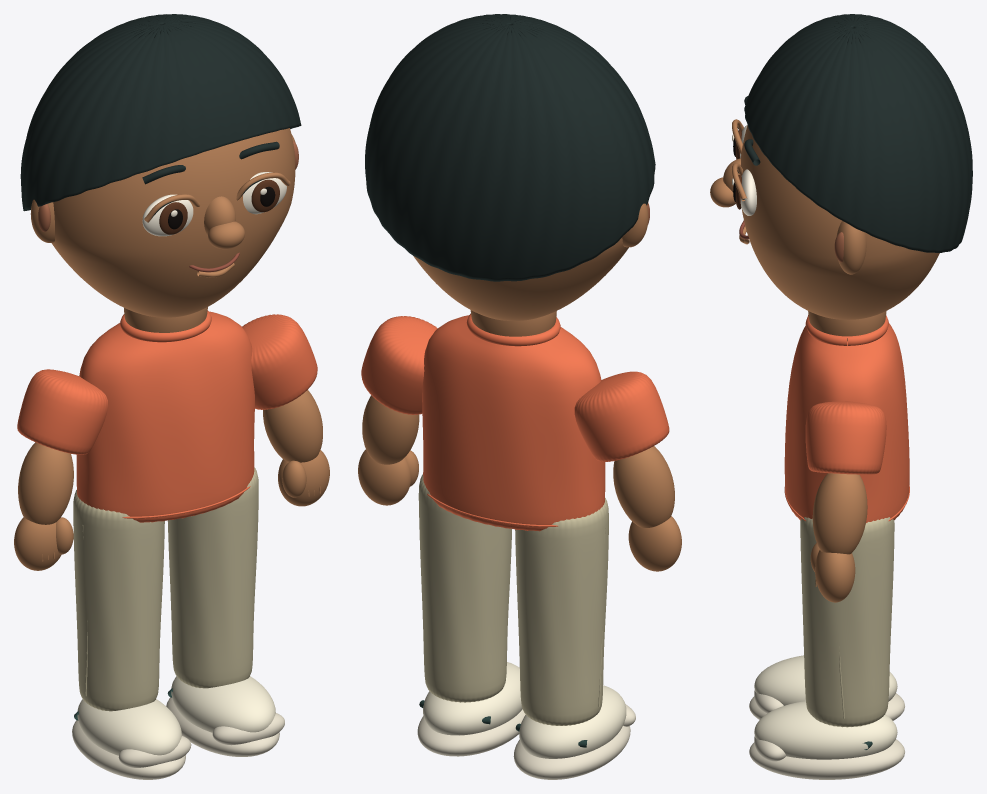
The model's file is male-short.glb.
The picture shows the model from 3 angles, left to right: view 1: azimuth 30°, elevation 25°; view 2: azimuth 150°, elevation 25°; view 3: azimuth 270°, elevation 25°; orthographic projection. The views are drawn at different scales.
Parts seen in each view (by area): view 1: Hair | shaped continuous hairstyle, Cotton tee | tailored body, Face | sculpted soft jaw, Trousers | tapered leg, Trousers | tapered leg.001, Tee | tailored short sleeve, Tee | tailored short sleeve.001, Sneaker | canvas upper, Sneaker | canvas upper.001, Arm | forearm, Arm | forearm.001, Sneaker | rubber sole (+12 smaller); view 2: Hair | shaped continuous hairstyle, Cotton tee | tailored body, Trousers | tapered leg, Trousers | tapered leg.001, Face | sculpted soft jaw, Tee | tailored short sleeve, Tee | tailored short sleeve.001, Arm | forearm, Sneaker | canvas upper, Sneaker | canvas upper.001, Arm | forearm.001, Sneaker | rubber sole (+6 smaller); view 3: Hair | shaped continuous hairstyle, Face | sculpted soft jaw, Trousers | tapered leg.001, Cotton tee | tailored body, Tee | tailored short sleeve.001, Sneaker | canvas upper.001, Arm | forearm.001, Sneaker | rubber sole.001, Sneaker | canvas upper, Hand | palm.001, Neck, Ear.001 (+5 smaller).
Boxes of the visible parts, x1,y1,x2,y2 form: Hair | shaped continuous hairstyle: (20, 14, 301, 211); Cotton tee | tailored body: (76, 311, 254, 522); Face | sculpted soft jaw: (51, 128, 295, 317); Trousers | tapered leg: (73, 490, 164, 711); Trousers | tapered leg.001: (167, 467, 258, 688); Tee | tailored short sleeve: (17, 369, 108, 454); Tee | tailored short sleeve.001: (242, 314, 317, 409); Sneaker | canvas upper: (77, 699, 181, 755); Sneaker | canvas upper.001: (171, 676, 275, 732); Arm | forearm: (18, 442, 73, 524); Arm | forearm.001: (263, 390, 322, 462); Sneaker | rubber sole: (72, 720, 185, 779); Hair | shaped continuous hairstyle: (365, 14, 655, 281); Cotton tee | tailored body: (422, 315, 605, 531); Trousers | tapered leg: (515, 498, 608, 725); Trousers | tapered leg.001: (418, 474, 511, 702); Face | sculpted soft jaw: (413, 237, 628, 320); Tee | tailored short sleeve: (574, 371, 669, 461); Tee | tailored short sleeve.001: (361, 316, 437, 414); Arm | forearm: (613, 446, 674, 527); Sneaker | canvas upper: (519, 685, 626, 758); Sneaker | canvas upper.001: (423, 662, 522, 735); Arm | forearm.001: (362, 395, 419, 464); Sneaker | rubber sole: (513, 725, 630, 779); Hair | shaped continuous hairstyle: (744, 14, 972, 252); Face | sculpted soft jaw: (740, 125, 939, 319); Trousers | tapered leg.001: (800, 517, 894, 727); Cotton tee | tailored body: (784, 323, 909, 522); Tee | tailored short sleeve.001: (805, 401, 886, 474); Sneaker | canvas upper.001: (754, 701, 897, 759); Arm | forearm.001: (812, 473, 867, 554); Sneaker | rubber sole.001: (749, 739, 904, 779); Sneaker | canvas upper: (754, 655, 897, 705); Hand | palm.001: (815, 550, 855, 602); Neck: (808, 311, 886, 341); Ear.001: (836, 221, 866, 274).
Bounding box in the file's own units: 1.13 × 2.49 × 0.8216.
